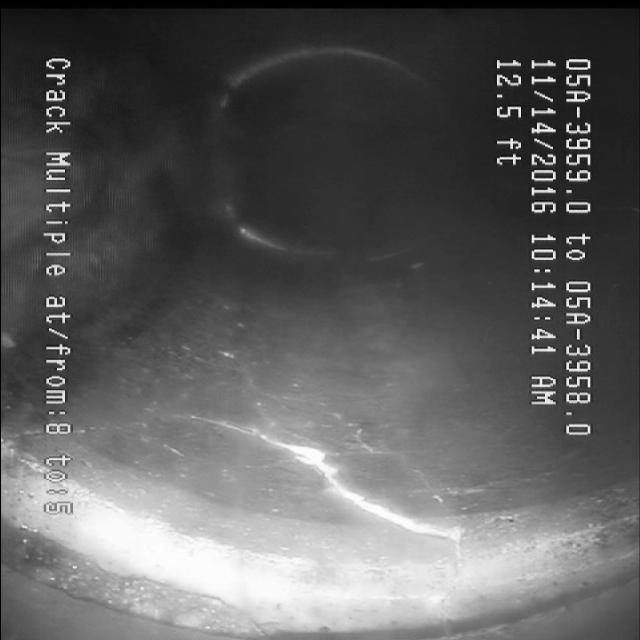Crack: (178, 401, 484, 556)
